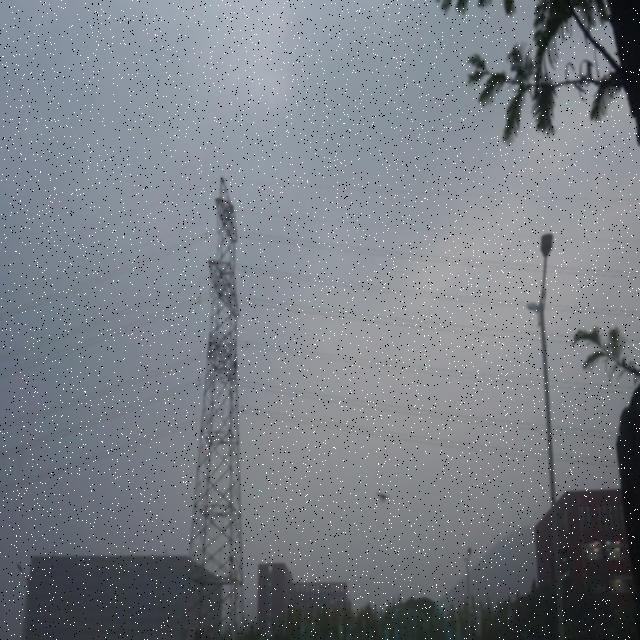UAV: (376, 491, 390, 503)
